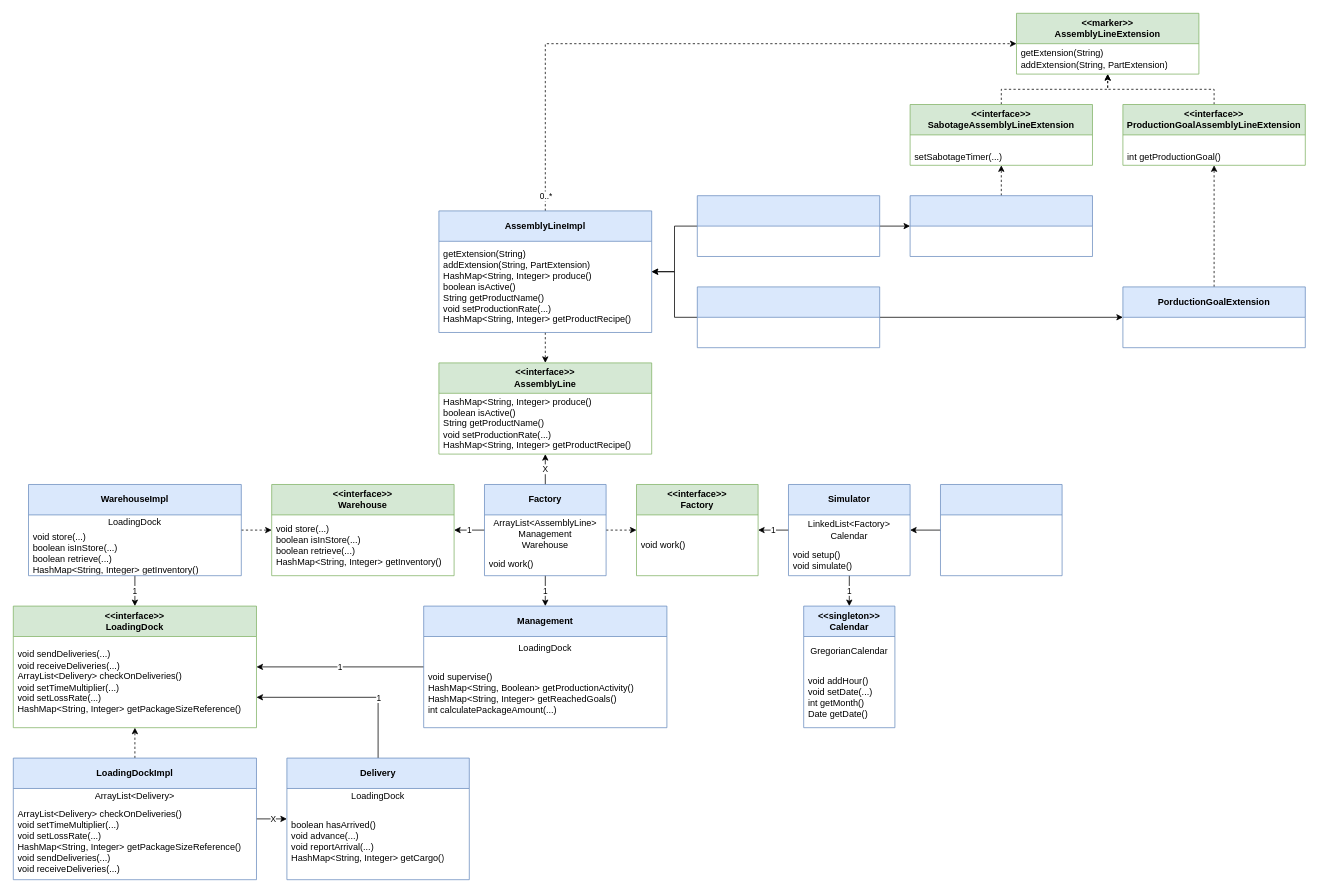
The diagram is 1319 pixels wide and 893 high, and some of its shapes have lost their labels. The centre of each missing label's shape, as x and y in pixels:
"Main" goes at (1001,530).
"ProductionGoalAssemblyLine" goes at (788,317).
"SabotageAssemblyLine" goes at (788,225).
"SabotageExtension" goes at (1000,225).
